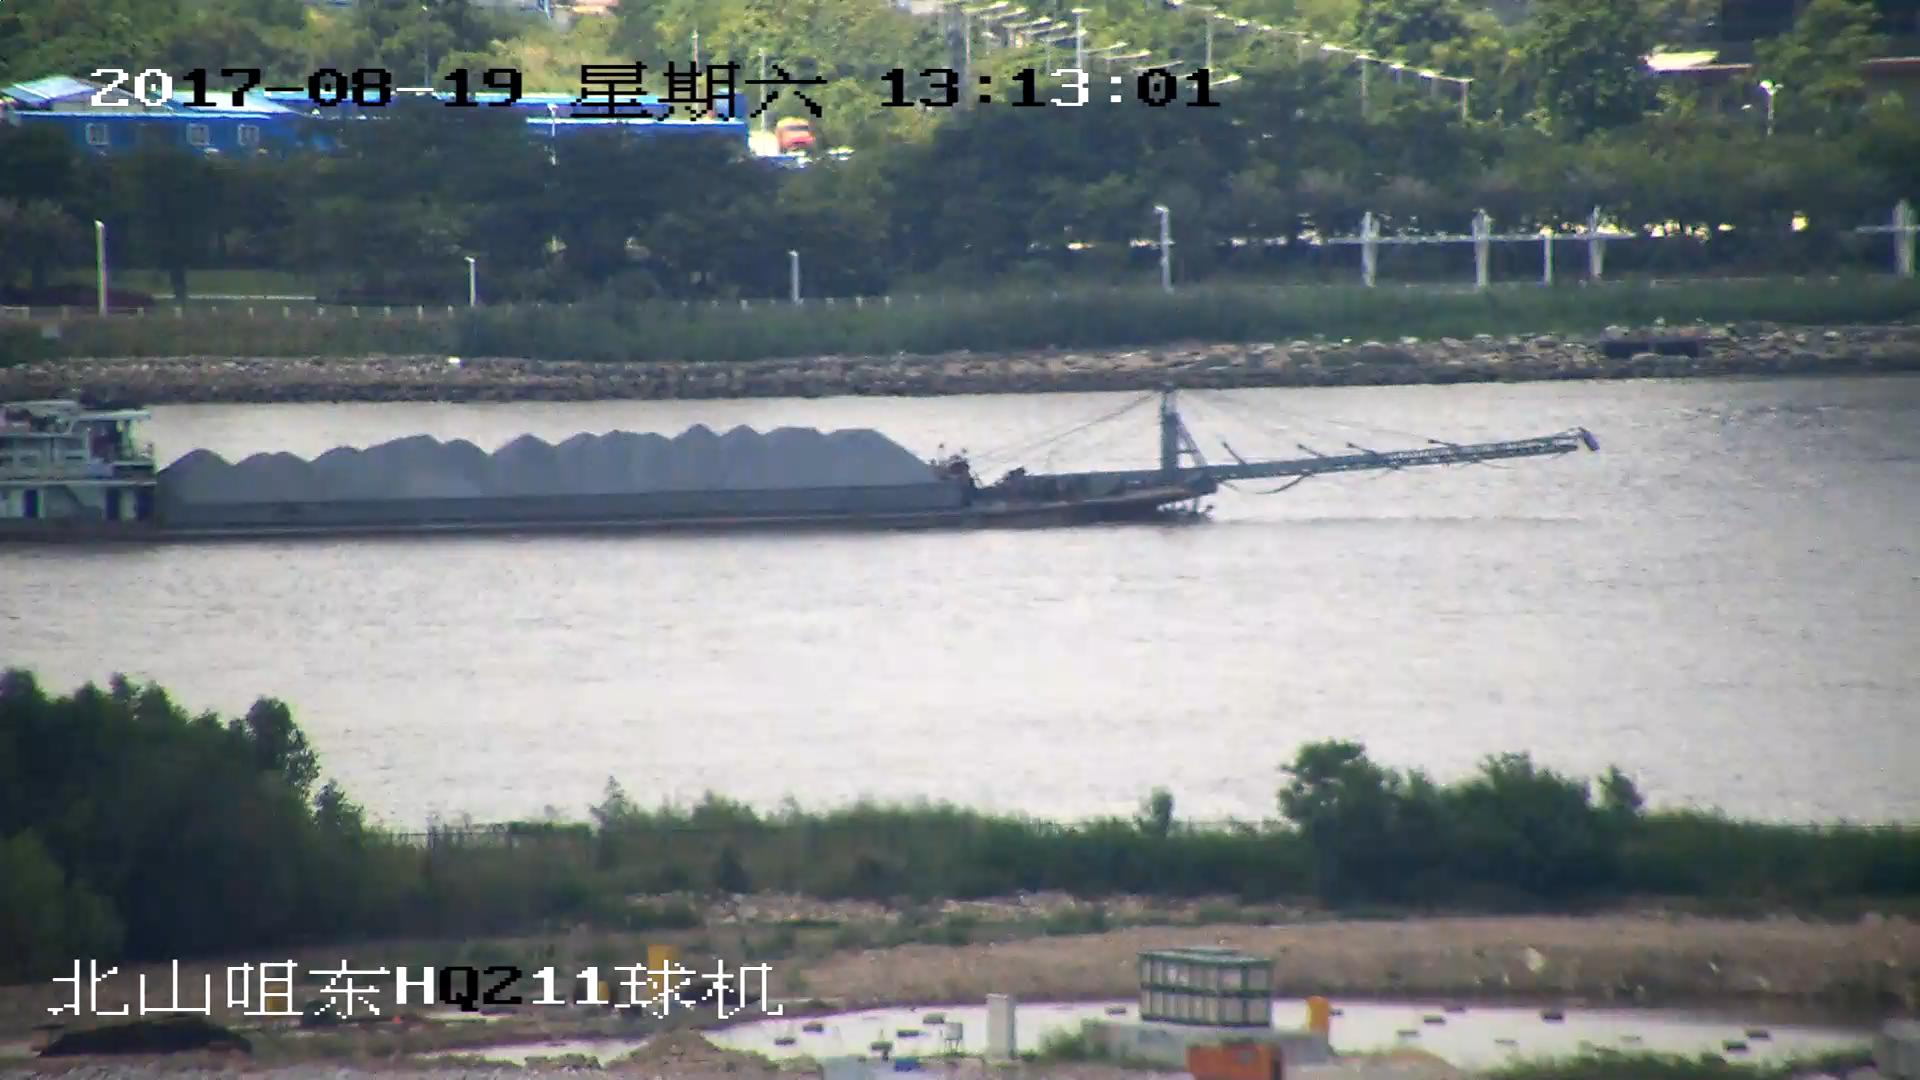ore carrier: (1, 362, 1606, 530)
